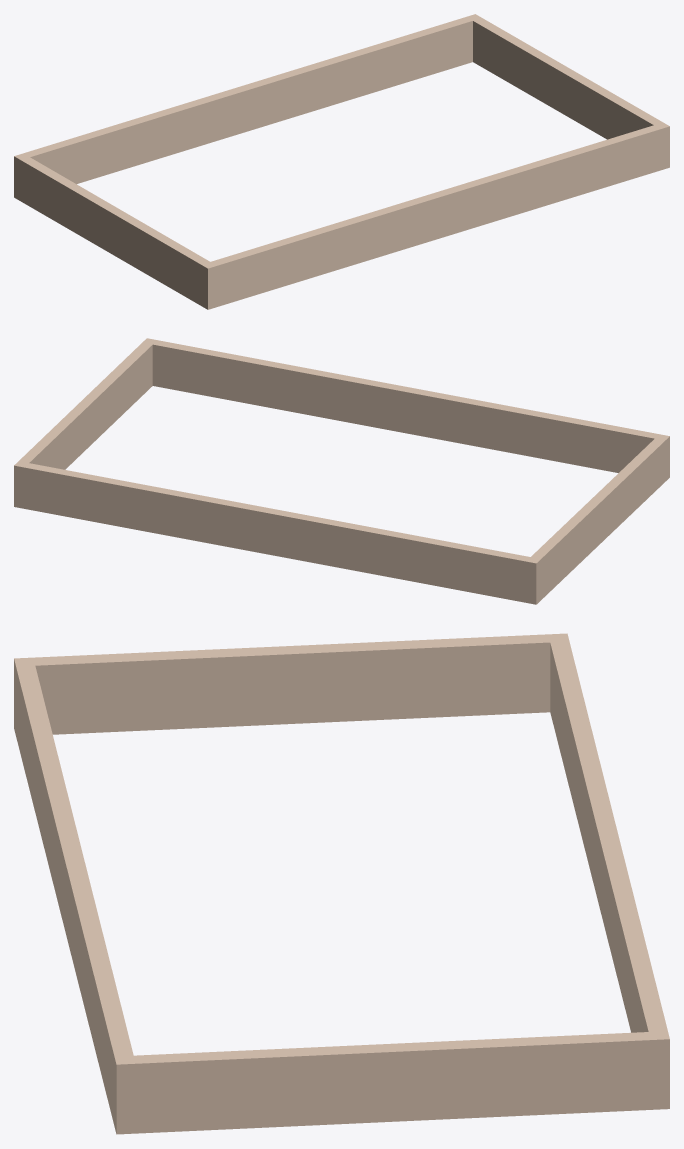
3 views of the same model, one above another, from view 1: azimuth 30°, elevation 25°; view 2: azimuth 150°, elevation 25°; view 3: azimuth 270°, elevation 25° (orthographic). The views are drawn at different scales.
Visible parts, largest first — view 1: SM_e7dc2b77940622ead95d; view 2: SM_e7dc2b77940622ead95d; view 3: SM_e7dc2b77940622ead95d.
Boxes of the visible parts, <box> form: SM_e7dc2b77940622ead95d: <box>14,14,669,309</box>; SM_e7dc2b77940622ead95d: <box>14,338,669,604</box>; SM_e7dc2b77940622ead95d: <box>14,633,669,1134</box>.
Size of the model in its own units: 9.47 by 6.09 by 0.715.
